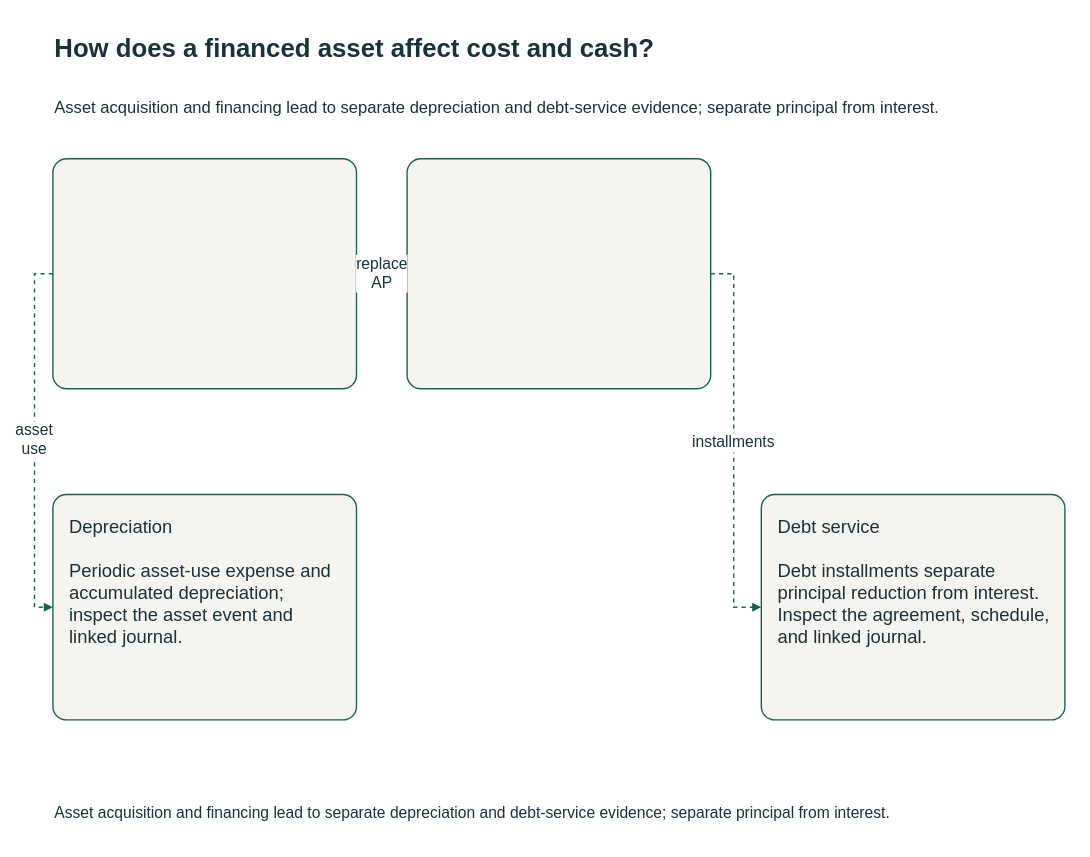
The diagram is 1090 pixels wide and 857 high, and some of its shapes have lost their labels. Here are the shapes that lost their labels. From the top down, the centre of each, then its label:
At (204,273): "Asset acquisition Receipt 15616 records the asset; invoice 21692 creates AP.".
At (558,273): "Financing Journal 445 replaces AP with a 280,000 note.".
